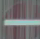No entry: (2, 2, 39, 37)
